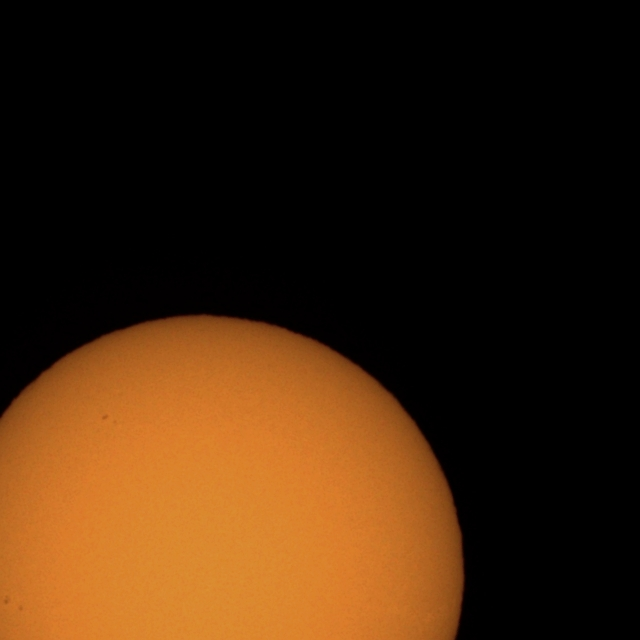sunspot: (2, 593, 23, 612), (2, 594, 11, 606), (101, 413, 109, 421), (17, 604, 24, 612)
